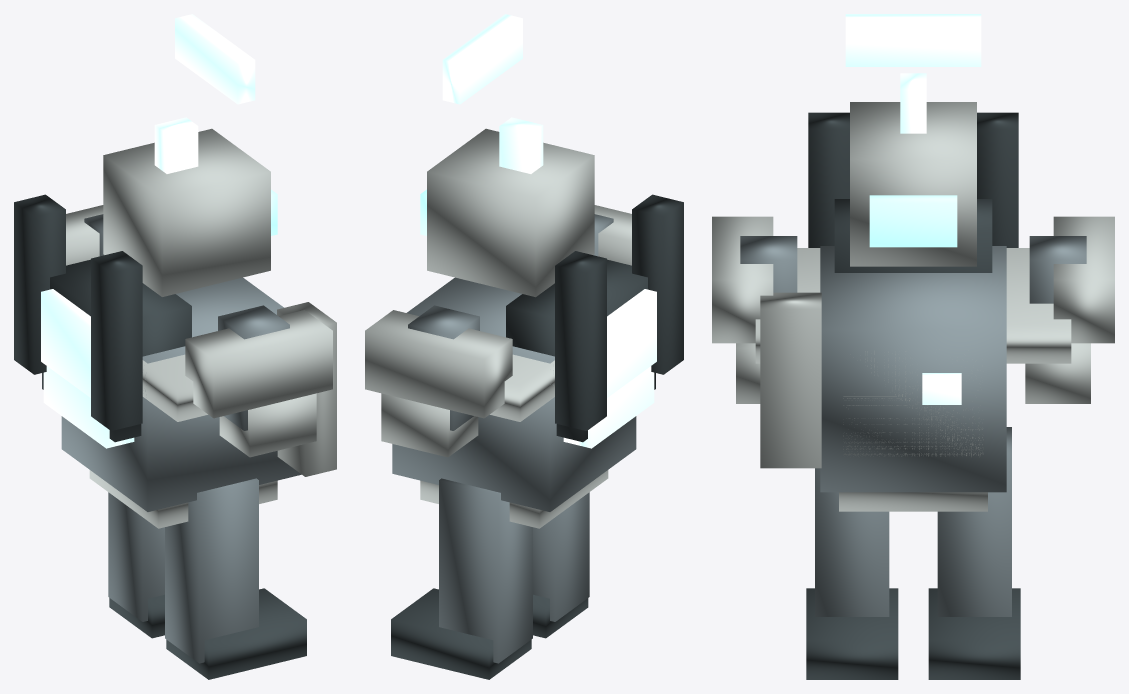
The model's file is ice-mine-rhea-kade-lod1.glb.
The picture shows the model from 3 angles, left to right: view 1: azimuth 30°, elevation 25°; view 2: azimuth 150°, elevation 25°; view 3: azimuth 270°, elevation 25°; orthographic projection. The views are drawn at different scales.
Parts seen in each view (by area): view 1: helmet-shell, torso-suit, leg-left-shell, boss-shoulder-left, ice-mine-rhea-kade-cryo-tank-left, ice-mine-rhea-kade-cryo-tank-right, boot-left, leg-right-shell, backpack-core, ice-mine-rhea-kade-survey-visor, backpack-glow, gauntlet-left (+8 smaller); view 2: helmet-shell, torso-suit, leg-right-shell, boss-shoulder-right, ice-mine-rhea-kade-cryo-tank-right, ice-mine-rhea-kade-cryo-tank-left, boot-right, leg-left-shell, backpack-core, ice-mine-rhea-kade-survey-visor, backpack-glow, gauntlet-right (+7 smaller); view 3: torso-suit, helmet-shell, ice-mine-rhea-kade-fracture-ram, leg-right-shell, leg-left-shell, ice-mine-rhea-kade-survey-visor, boss-shoulder-right, boot-left, boot-right, ice-mine-rhea-kade-bore-cowl, boss-shoulder-left, ice-mine-rhea-kade-cryo-tank-left (+11 smaller).
Boxes of the visible parts, left/top/right/bottom form: helmet-shell: left=103, top=128, right=270, bottom=296; torso-suit: left=61, top=277, right=301, bottom=511; leg-left-shell: left=165, top=478, right=258, bottom=663; boss-shoulder-left: left=185, top=310, right=332, bottom=418; ice-mine-rhea-kade-cryo-tank-left: left=91, top=251, right=142, bottom=430; ice-mine-rhea-kade-cryo-tank-right: left=14, top=194, right=65, bottom=374; boot-left: left=166, top=588, right=306, bottom=679; leg-right-shell: left=108, top=492, right=164, bottom=621; backpack-core: left=42, top=259, right=191, bottom=442; ice-mine-rhea-kade-survey-visor: left=175, top=14, right=255, bottom=104; backpack-glow: left=41, top=289, right=90, bottom=397; gauntlet-left: left=219, top=393, right=316, bottom=457; helmet-shell: left=427, top=128, right=594, bottom=297; torso-suit: left=392, top=277, right=636, bottom=511; leg-right-shell: left=439, top=478, right=532, bottom=663; boss-shoulder-right: left=365, top=310, right=512, bottom=418; ice-mine-rhea-kade-cryo-tank-right: left=555, top=251, right=606, bottom=430; ice-mine-rhea-kade-cryo-tank-left: left=632, top=194, right=683, bottom=374; boot-right: left=391, top=588, right=531, bottom=679; leg-left-shell: left=533, top=492, right=589, bottom=621; backpack-core: left=506, top=259, right=655, bottom=442; ice-mine-rhea-kade-survey-visor: left=442, top=14, right=522, bottom=104; backpack-glow: left=607, top=289, right=656, bottom=397; gauntlet-right: left=381, top=393, right=478, bottom=457; torso-suit: left=820, top=246, right=1006, bottom=492; helmet-shell: left=850, top=102, right=976, bottom=266; ice-mine-rhea-kade-fracture-ram: left=760, top=292, right=821, bottom=468; leg-right-shell: left=937, top=427, right=1011, bottom=616; leg-left-shell: left=815, top=468, right=889, bottom=616; ice-mine-rhea-kade-survey-visor: left=845, top=14, right=981, bottom=66; boss-shoulder-right: left=1053, top=216, right=1114, bottom=343; boot-left: left=806, top=588, right=898, bottom=679; boot-right: left=928, top=588, right=1020, bottom=679; ice-mine-rhea-kade-bore-cowl: left=755, top=248, right=1071, bottom=363; boss-shoulder-left: left=712, top=216, right=773, bottom=343; ice-mine-rhea-kade-cryo-tank-left: left=808, top=112, right=849, bottom=247.
Size of the model in its own units: 1.19 by 3.22 by 1.84.
